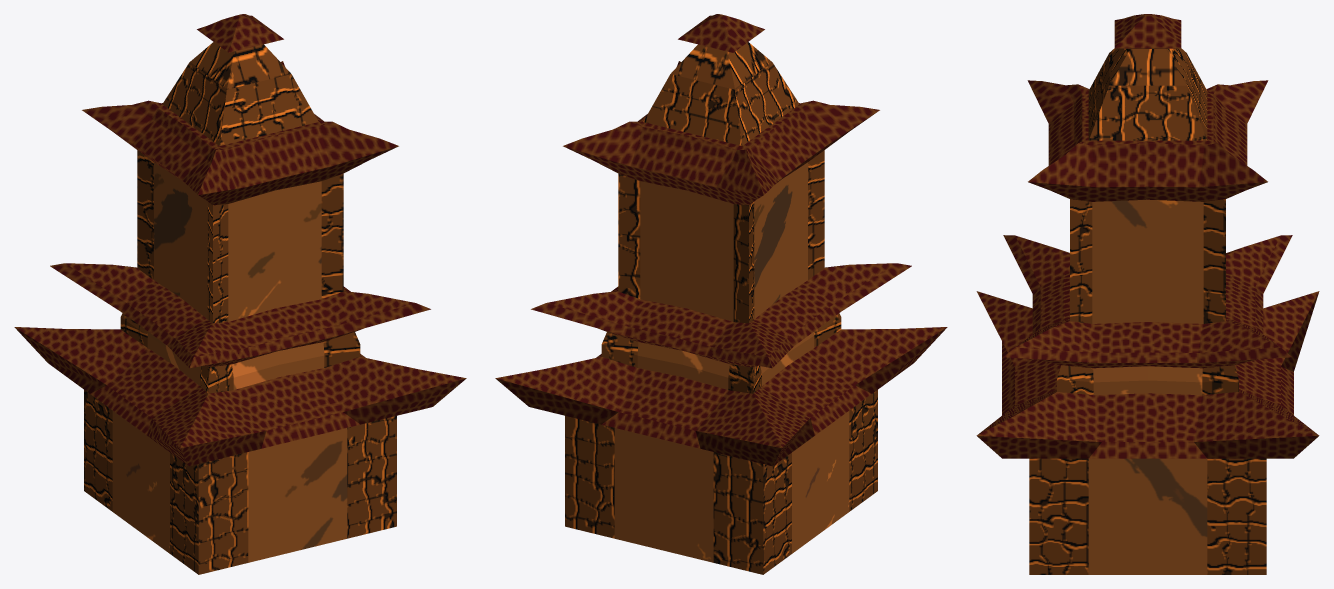
Rendered from Port_Temple_Asset.fbx.
3 renders of one model, left to right at view 1: azimuth 30°, elevation 25°; view 2: azimuth 150°, elevation 25°; view 3: azimuth 270°, elevation 25°, orthographic. The views are drawn at different scales.
Parts seen in each view (by area): view 1: Box001; view 2: Box001; view 3: Box001.
Boxes of the visible parts, box(x1,y1,x2,y2) form: Box001: box(14, 14, 466, 574); Box001: box(495, 14, 947, 574); Box001: box(976, 14, 1319, 574).
Size of the model in its own units: 173 by 284 by 173.
1 material, 1 textured.
